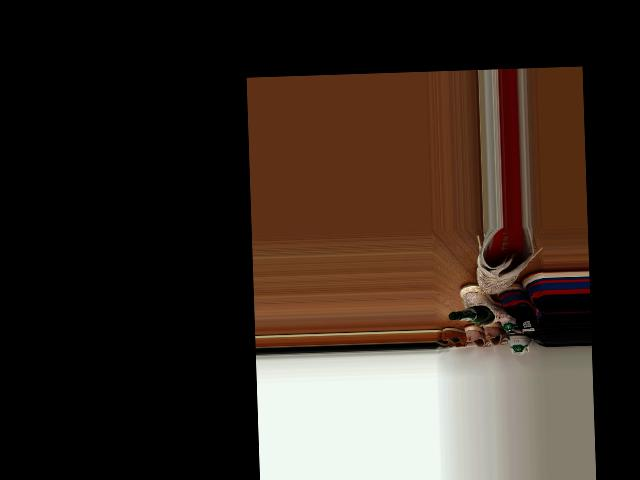beer: (448, 305, 494, 323)
